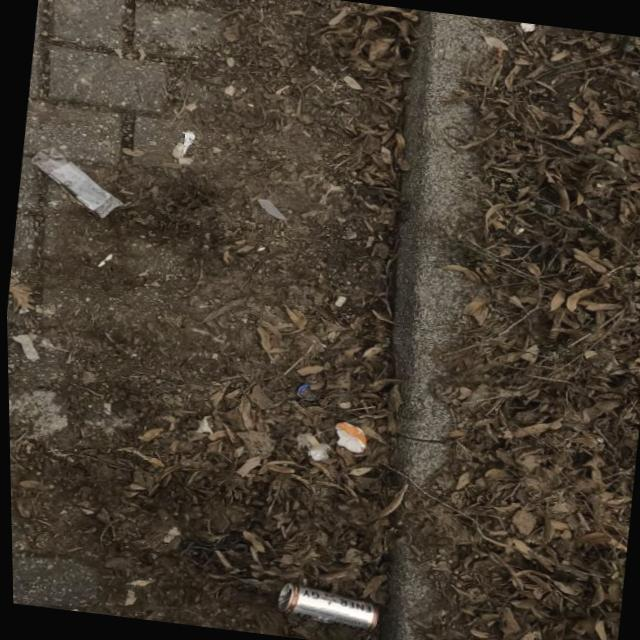Can-Metal: (270, 580, 379, 632)
Plastic: (20, 141, 129, 221), (329, 420, 366, 454)
